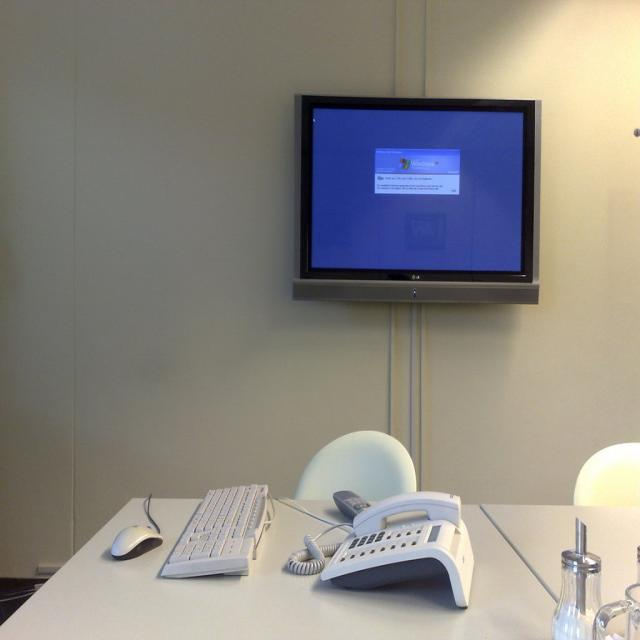chair: (293, 430, 418, 502)
desk: (0, 479, 501, 640)
keyboard: (158, 484, 268, 578)
mouse: (111, 524, 163, 561)
tv: (292, 95, 541, 303)
